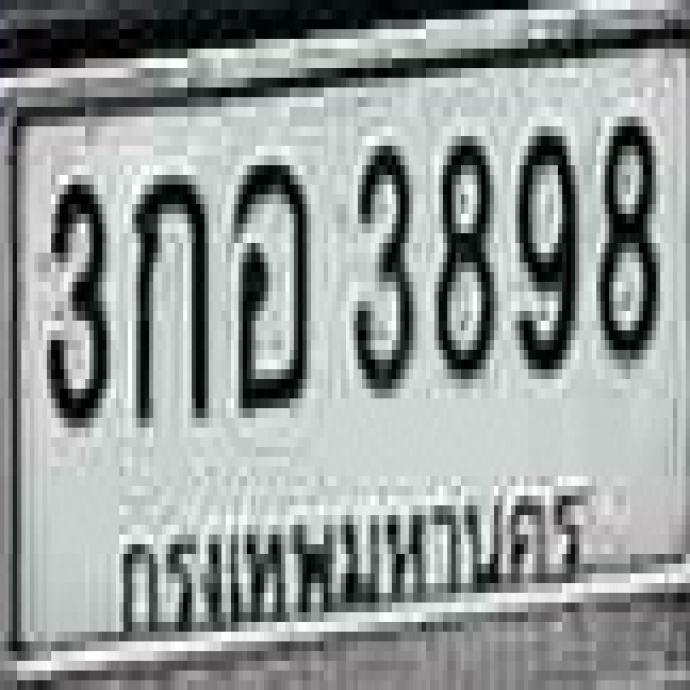3: (43, 171, 105, 418), (349, 135, 409, 388)
8: (431, 125, 491, 372), (595, 106, 655, 352)
9: (512, 115, 574, 369)
A01: (129, 164, 204, 417)
A43: (230, 154, 306, 406)
BKK: (107, 472, 592, 640)
